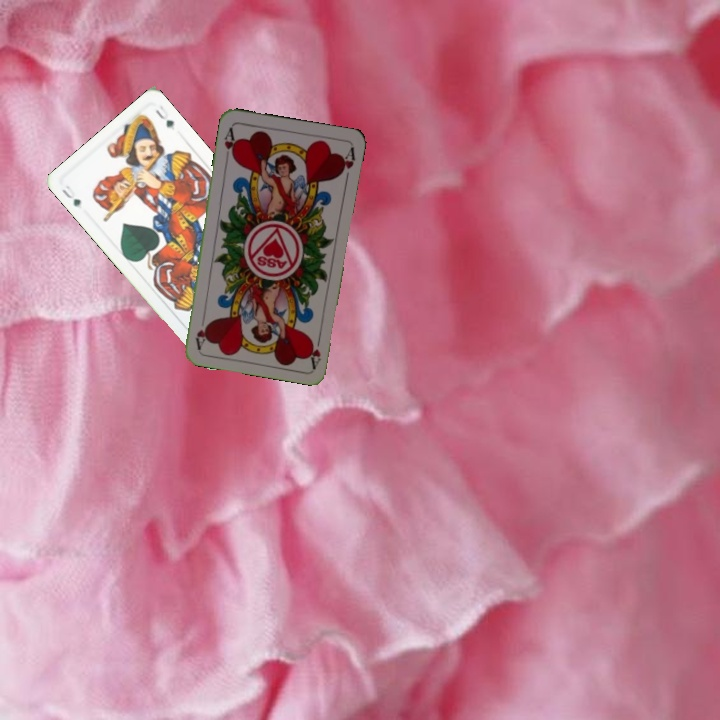GU: (58, 181, 84, 210)
HA: (304, 329, 324, 370), (220, 123, 239, 163)
